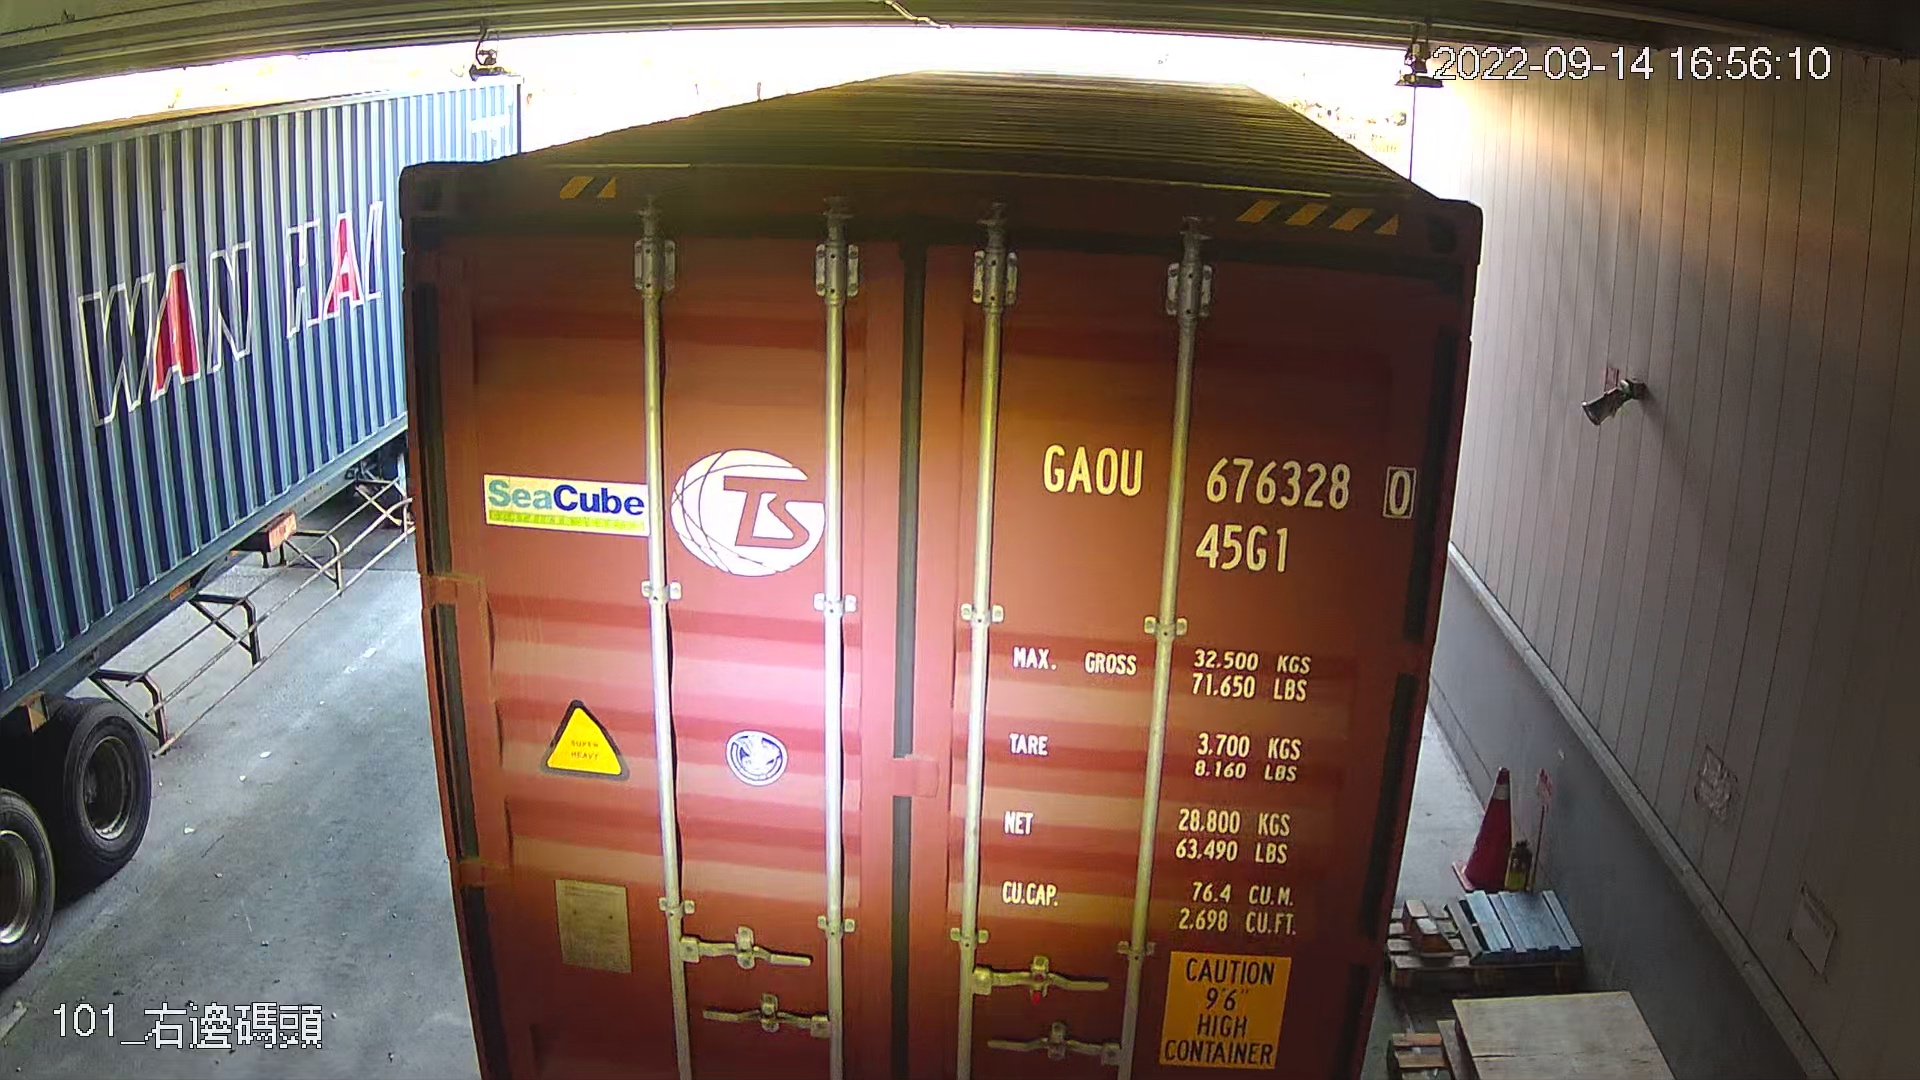container: (1033, 425, 1423, 583)
